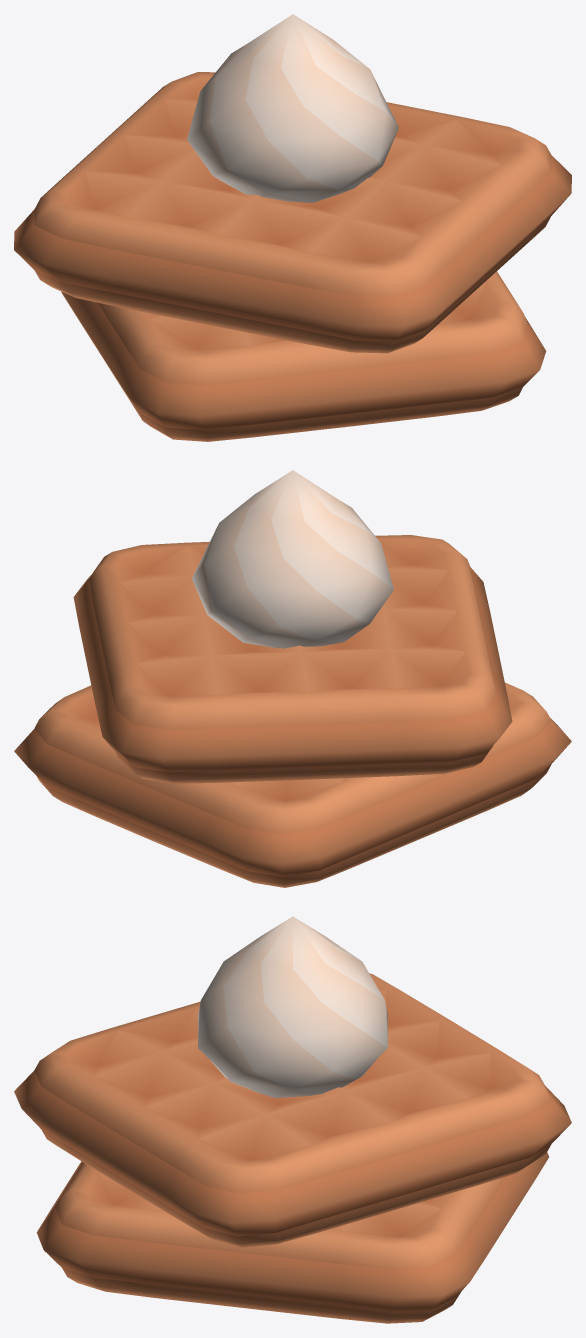
Rendered from waffle_stacked.obj.
3 views of the same model, one above another, from view 1: azimuth 30°, elevation 25°; view 2: azimuth 150°, elevation 25°; view 3: azimuth 270°, elevation 25° (orthographic). The views are drawn at different scales.
Visible parts, largest first — view 1: waffle_stacked; view 2: waffle_stacked; view 3: waffle_stacked.
Boxes of the visible parts, x1,y1,x2,y2 form: waffle_stacked: (14, 14, 571, 441); waffle_stacked: (14, 470, 571, 887); waffle_stacked: (14, 916, 571, 1323).
Bounding box in the file's own units: 0.6816 × 0.4459 × 0.6917.
Materials: 1 (1 with a texture image).
